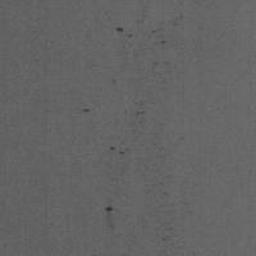Inclusion: (150, 28, 169, 45), (104, 204, 116, 229), (108, 145, 132, 156), (114, 26, 134, 38), (82, 108, 92, 115)
